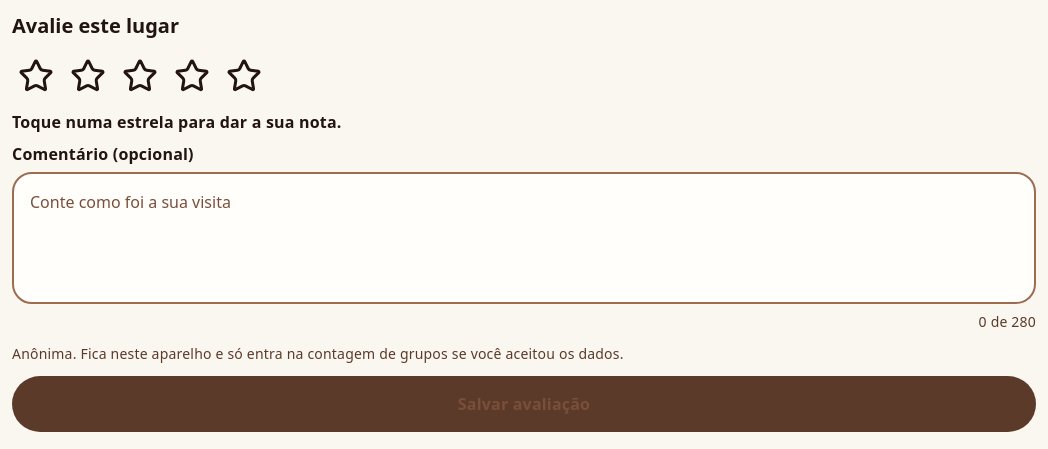
it: ReviewForm › saves the rating and the comment for that place only, on this device
The image size is (1048, 449).
Click the radio button named "5 de 5 estrelas" at (244, 76), box 220,52 -> 268,100
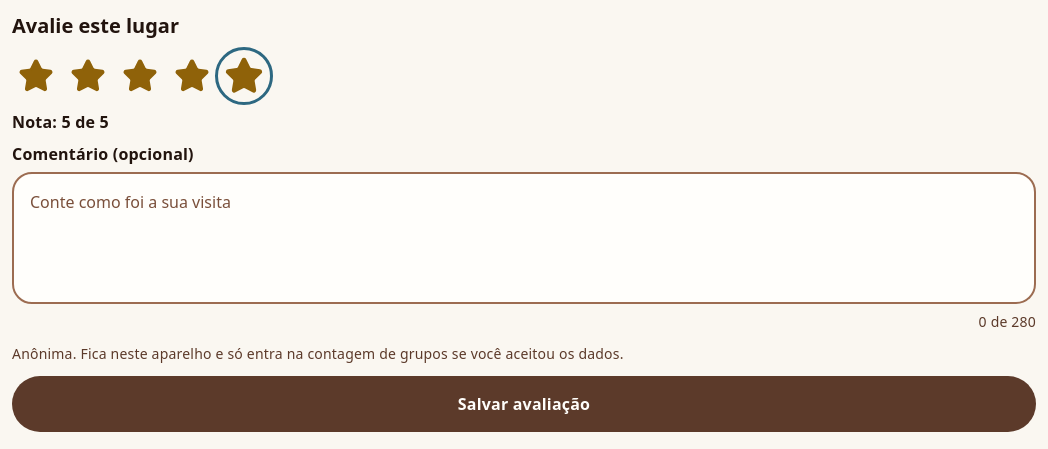
Type "  Quibe ótimo  " into the text box labelled "Comentário (opcional)" at (524, 238), box 12,172 -> 1036,304
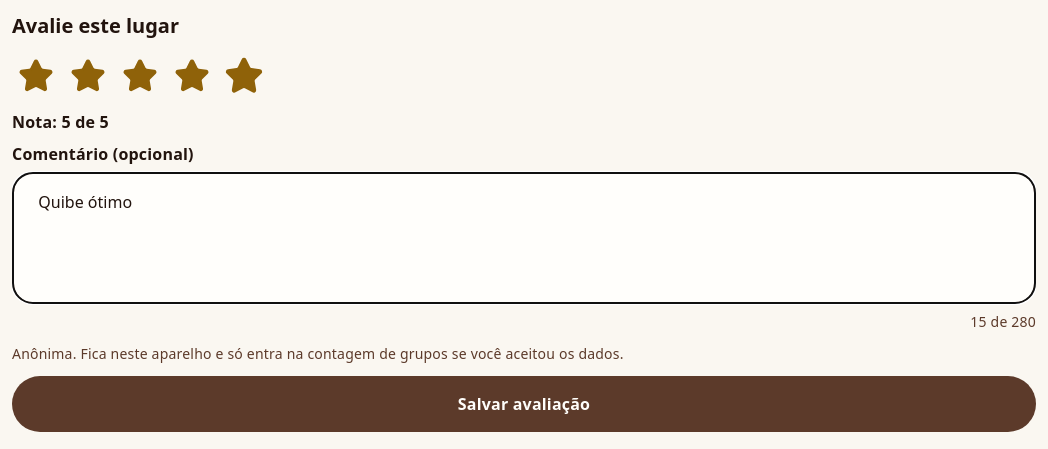
Click the button "Salvar avaliação" at (524, 404), box 12,376 -> 1036,432
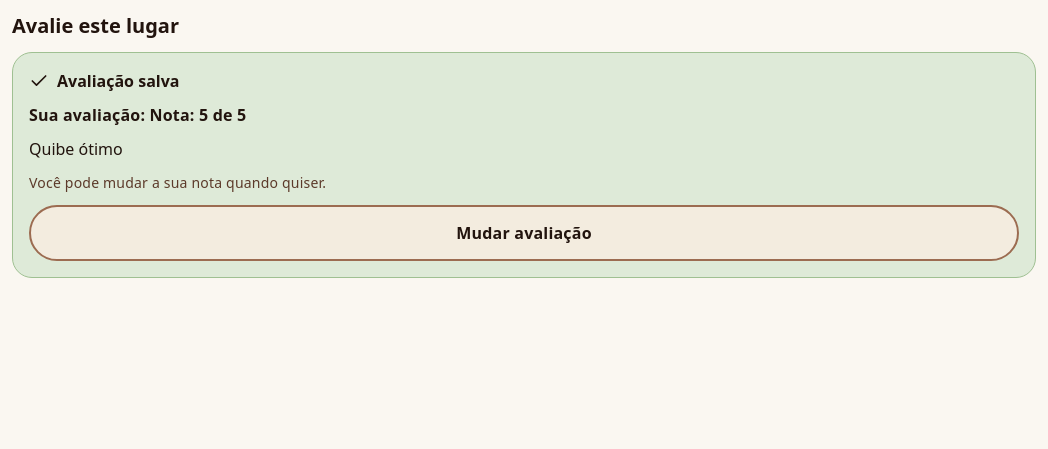
Now the text "Avaliação salva" is shown, box 29,70 -> 180,92
Now the text "Sua avaliação: Nota: 5 de 5" is shown, box 29,104 -> 246,126
Now the text "Quibe ótimo" is shown, box 29,138 -> 123,160
